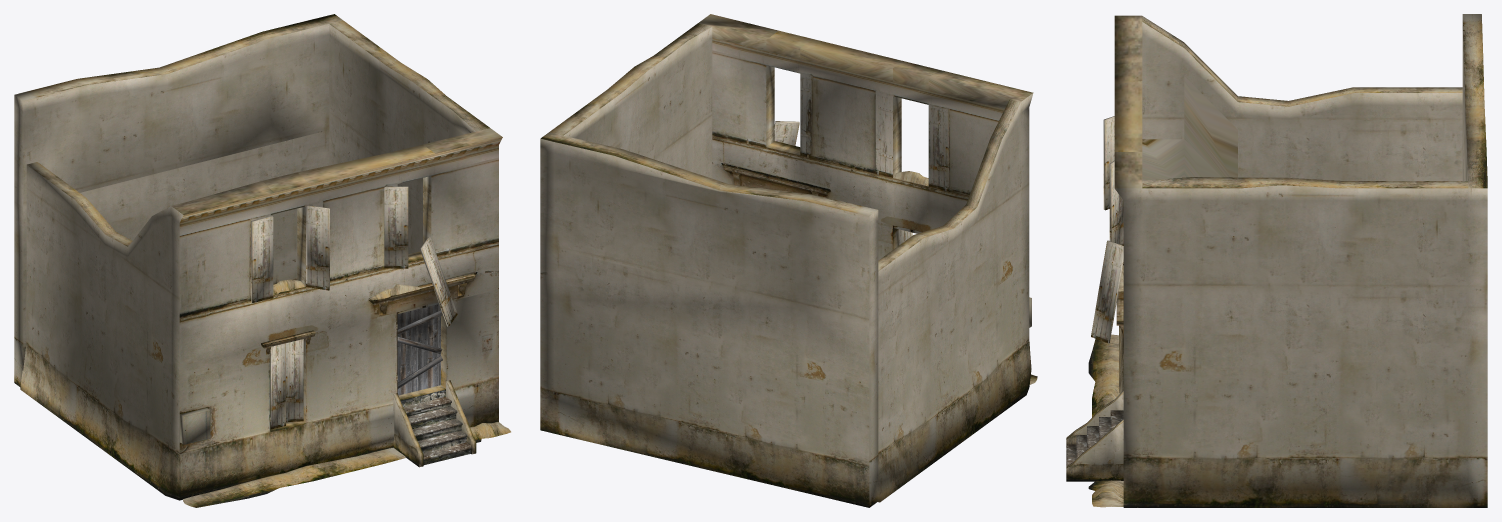
Rendered from war_torn8.obj.
3 renders of one model, left to right at view 1: azimuth 30°, elevation 25°; view 2: azimuth 150°, elevation 25°; view 3: azimuth 270°, elevation 25°, orthographic. The views are drawn at different scales.
Visible parts, largest first — view 1: worn_torn8; view 2: worn_torn8; view 3: worn_torn8.
Boxes of the visible parts, x1=… form: worn_torn8: x1=14, y1=14, x2=510, y2=507; worn_torn8: x1=540, y1=14, x2=1037, y2=507; worn_torn8: x1=1066, y1=14, x2=1487, y2=507.
Bounding box in the file's own units: 322 × 276 × 326.
Materials: 1 (1 with a texture image).
